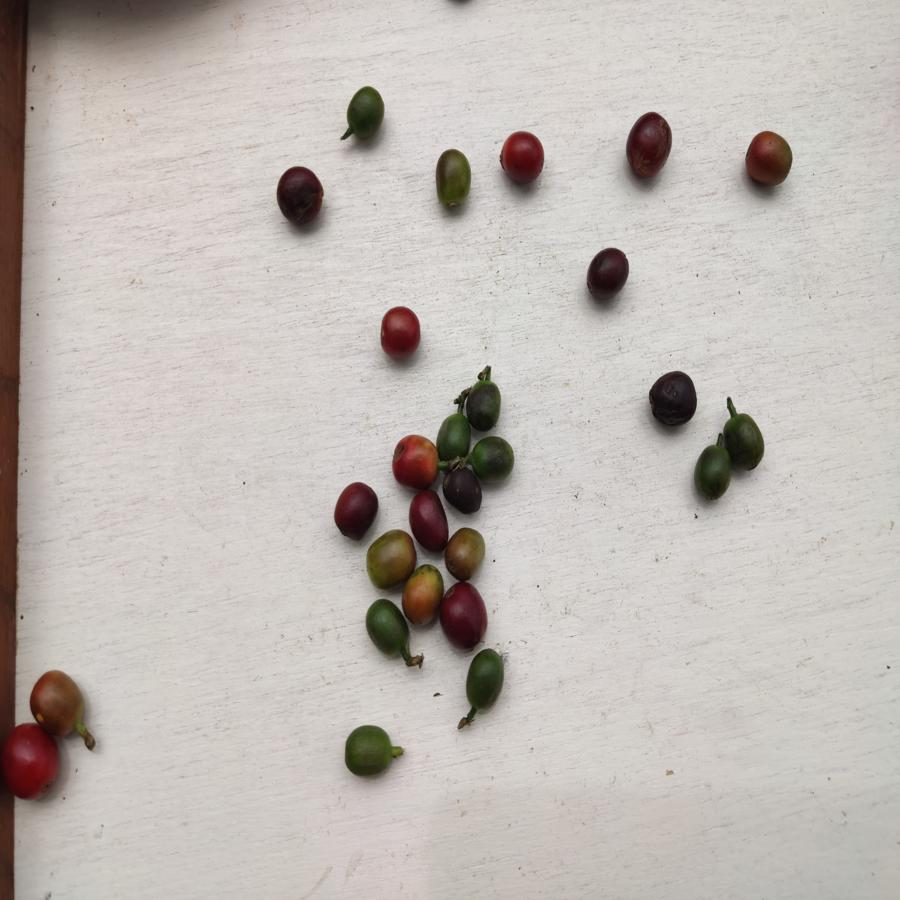Inmaduro: (343, 724, 393, 782), (365, 598, 408, 660), (722, 411, 765, 471), (693, 440, 732, 505), (463, 648, 505, 708), (345, 82, 385, 142), (470, 434, 516, 482), (465, 382, 505, 428), (435, 412, 471, 458)
Maduro: (4, 723, 56, 804), (498, 130, 546, 190), (378, 304, 423, 364), (389, 435, 437, 491)
Pinton: (32, 665, 84, 734), (744, 129, 796, 188), (366, 530, 416, 588), (435, 148, 472, 210), (403, 566, 440, 627), (445, 527, 486, 582)
Sobremaduro: (625, 111, 675, 179), (275, 165, 329, 227), (442, 583, 489, 645), (648, 370, 698, 428), (585, 244, 632, 300), (333, 482, 378, 538), (409, 492, 449, 552), (446, 466, 481, 513)
